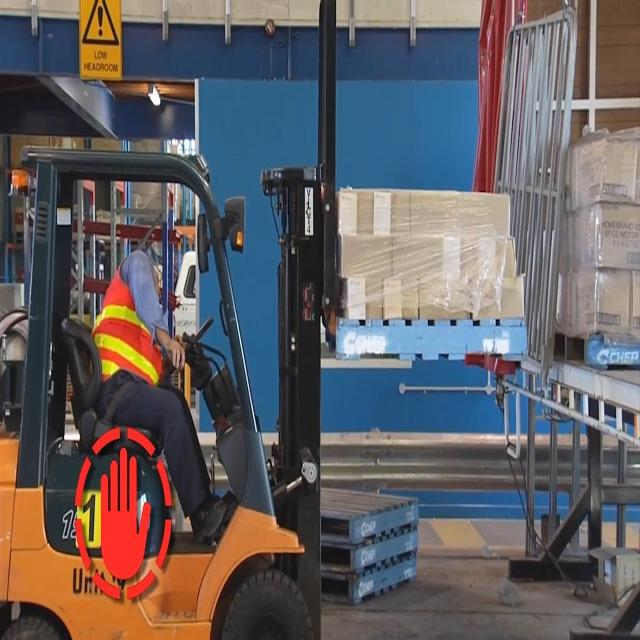box: (335, 182, 533, 332), (564, 114, 640, 340)
forklift: (0, 3, 530, 638)
pallets: (324, 475, 429, 601), (333, 314, 534, 364), (583, 325, 640, 374)
person: (80, 138, 256, 526)
